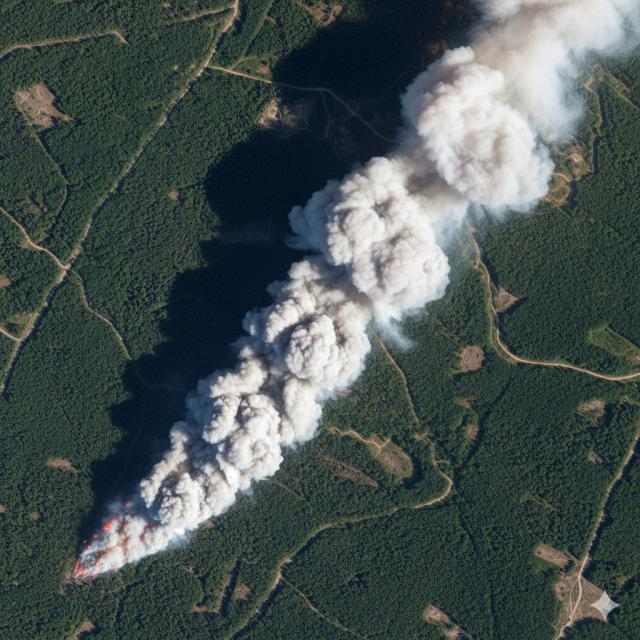wildfire: (64, 301, 356, 593)
